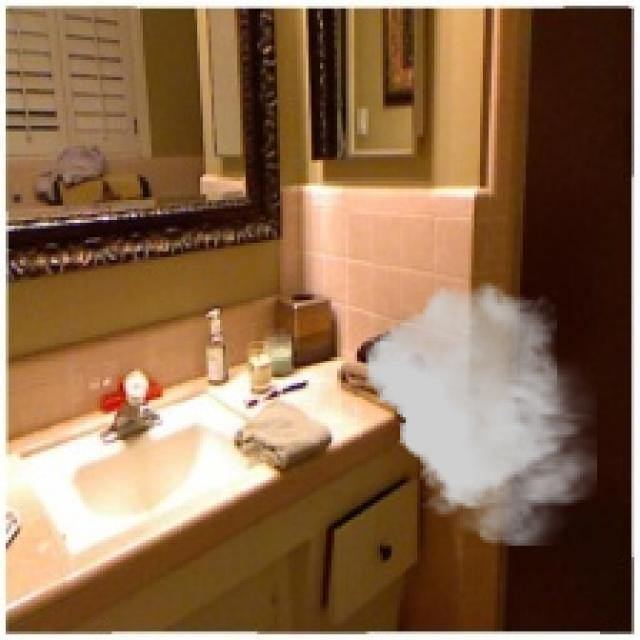Smoke: (366, 283, 598, 546)
